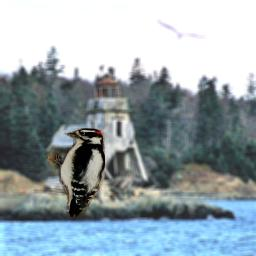Woodpecker: (47, 128, 105, 217)
